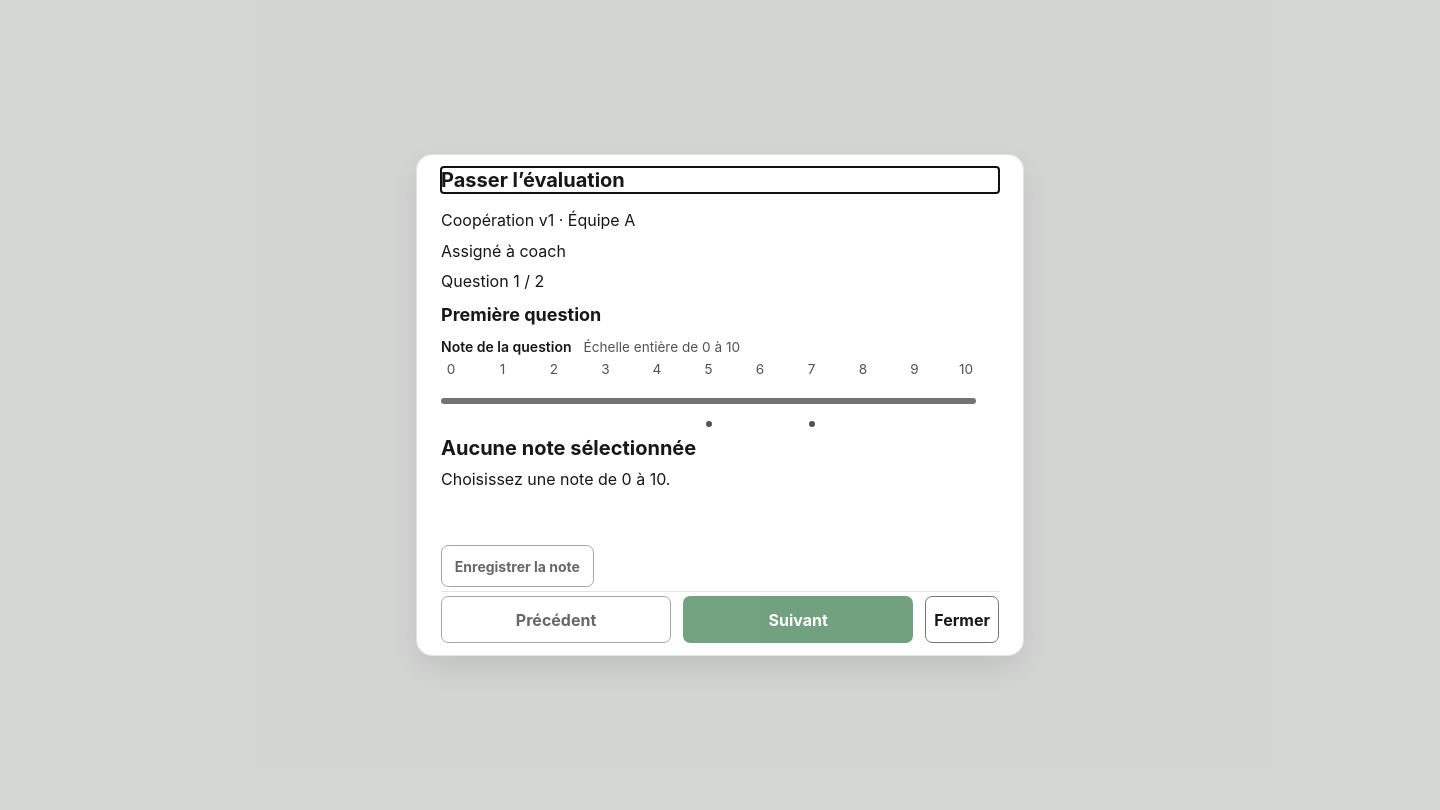
Test: saves 6 while displaying the description for 5 in every score indication
The image size is (1440, 810).
Step 1. Set the slider to "6" → (760, 401), box [441,381,976,421]
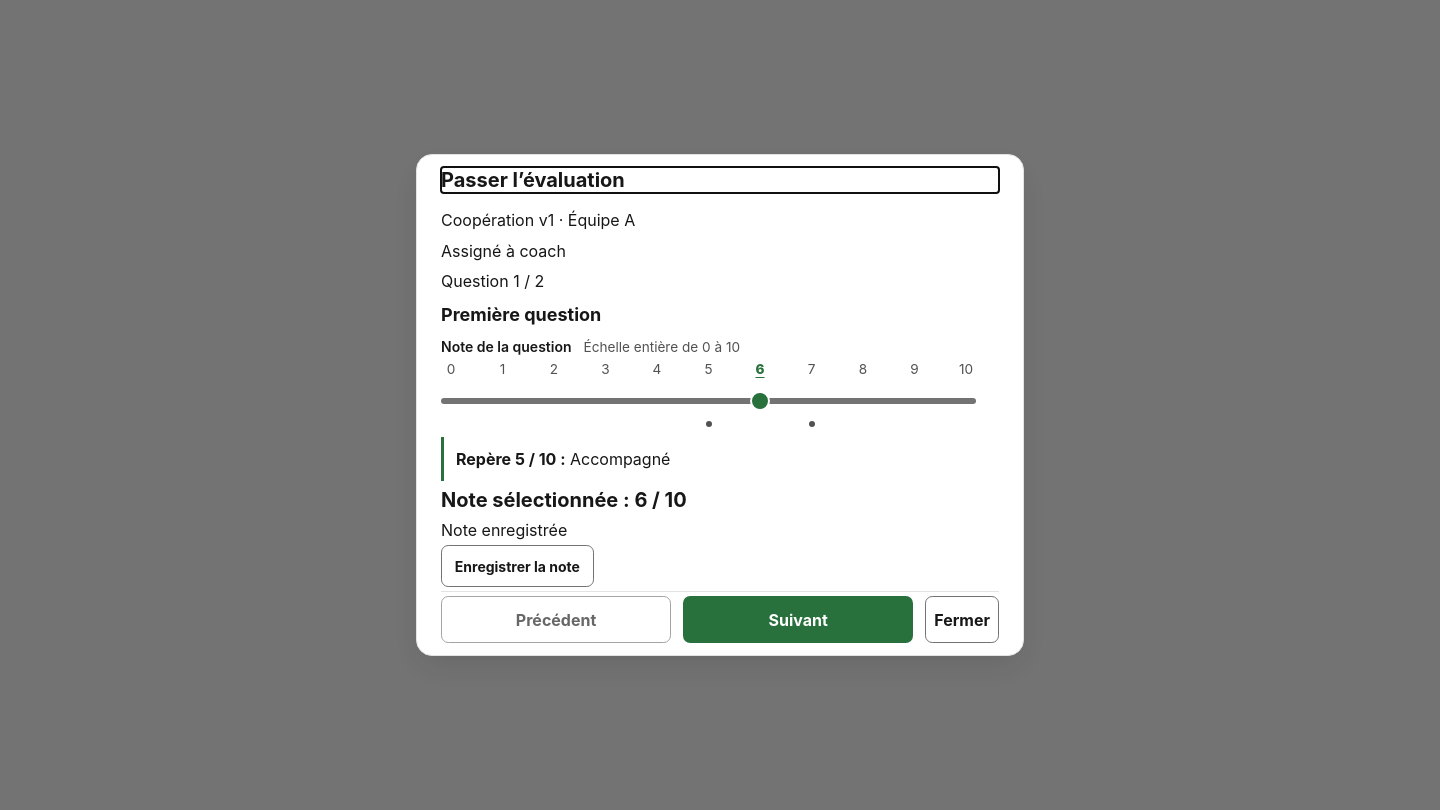
Now the text "Note sélectionnée : 6 / 10" is shown, box [441,488,687,512]
